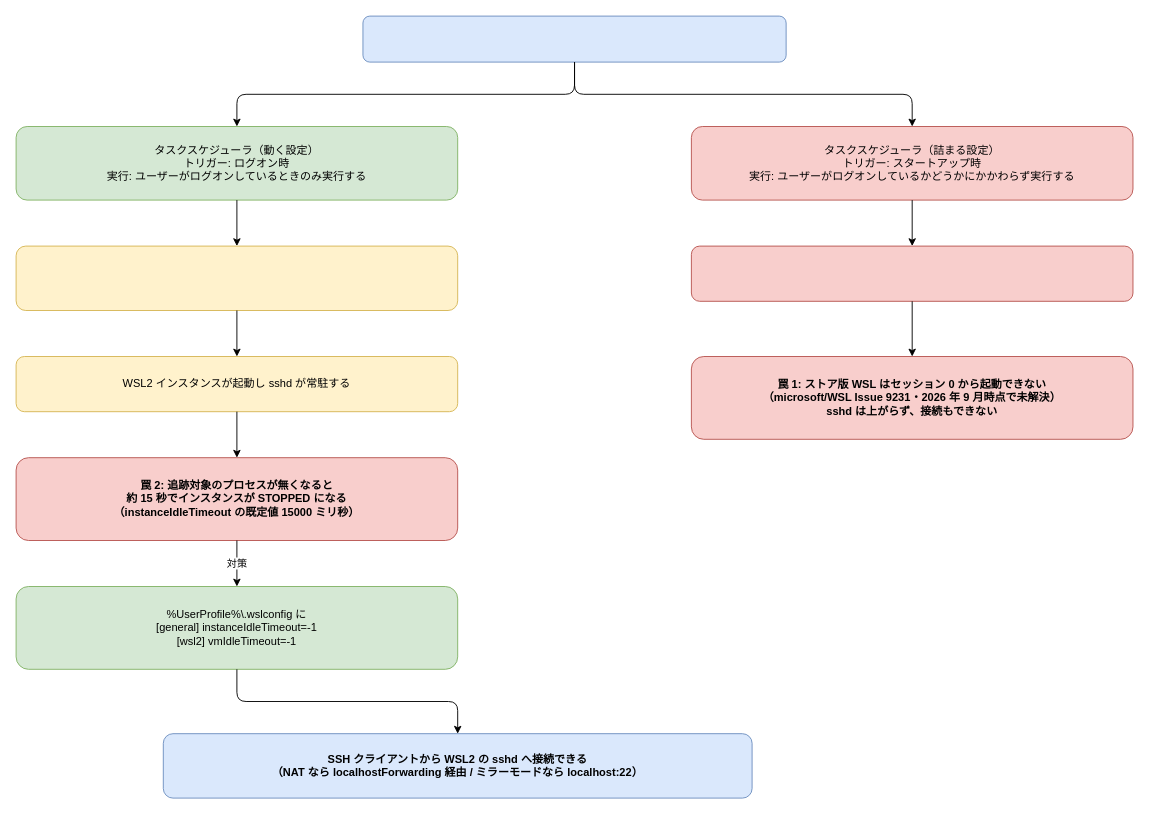
Some shapes in this 1149 by 814 pixel diagram are drawn without their labels. Here are the shapes that lost their labels. From the top down, the centre of each, then its label:
pixel 574 38: Windows の起動 / ログオン
pixel 236 277: ユーザーセッションで wsl.exe を実行 wsl -u root -- service ssh start
pixel 911 273: タスクはセッション 0 で実行される
